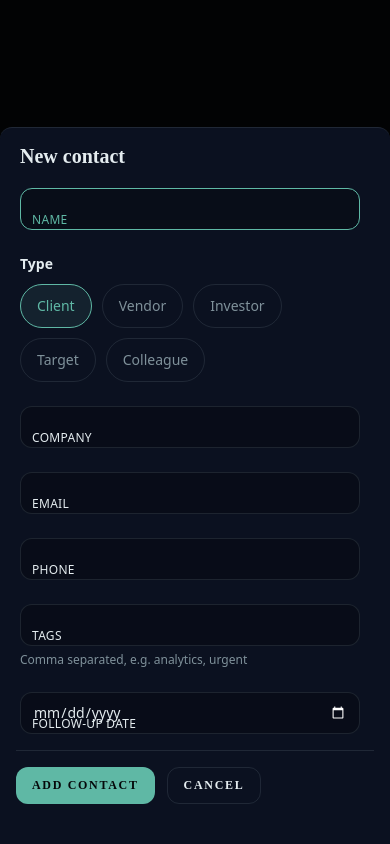
Test case: ContactDrawer layout contract › name-missing submit shows an inline error instead of saving silently
Step 1. Click the button "Add contact" → {"x": 85, "y": 785}, box [16,767,155,804]
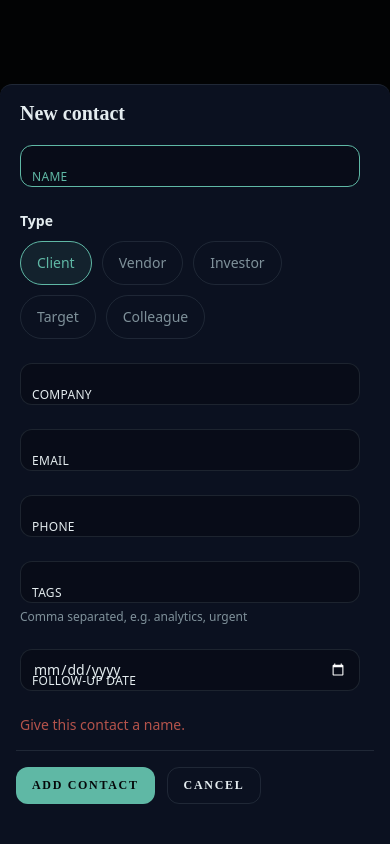
Now the text "Give this contact a name." is shown, box [20,715,185,734]
